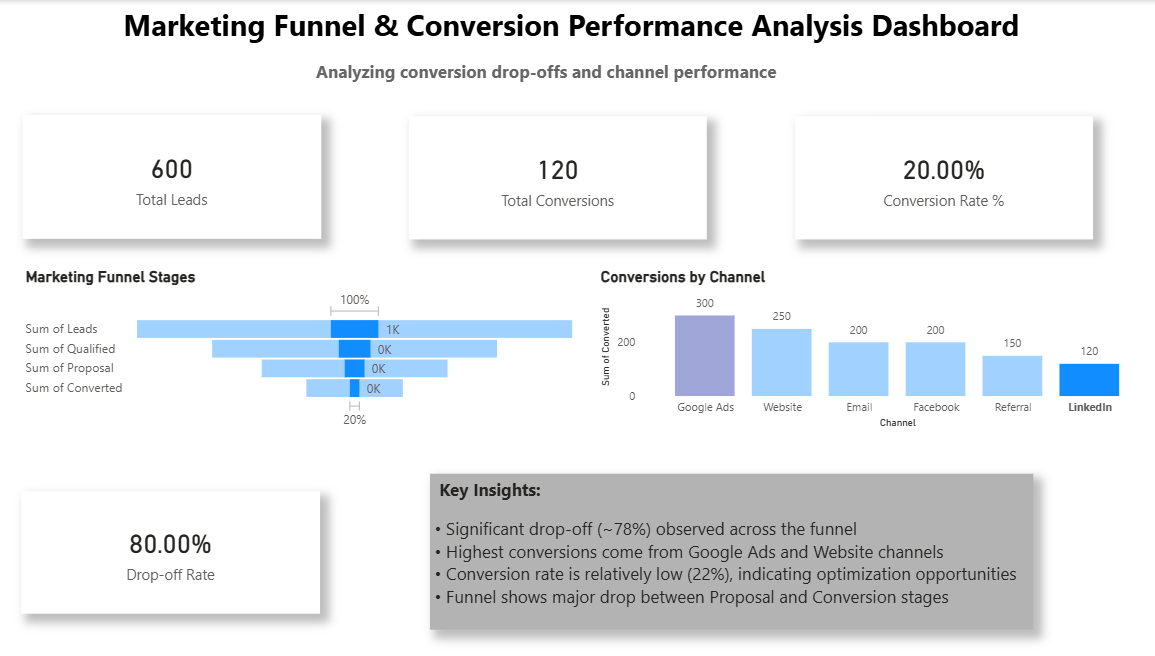

Layout of this report page (visuals, bound fields, positions):
{"tool":"powerbi","page":{"name":"Page 1","canvas":[1280,720],"ordinal":0},"visuals":[{"type":"card","fields":{"Values":["Sum(marketing_funnel_dataset.Leads)"]},"box":[34.3,127.6,328,135.8],"z":0},{"type":"card","fields":{"Values":["Sum(marketing_funnel_dataset.Converted)"]},"box":[459.5,127.6,327,135],"z":1000},{"type":"card","fields":{"Values":["marketing_funnel_dataset.Conversion Rate %"]},"box":[883.7,127.6,327,135],"z":2000},{"type":"textbox","box":[34.3,0,1181.5,60.4],"z":3000},{"type":"textbox","box":[20.6,60.4,1180.1,41.2],"z":4000},{"type":"funnel","title":"Marketing Funnel Stages","fields":{"Y":["Sum(marketing_funnel_dataset.Leads)","Sum(marketing_funnel_dataset.Qualified)","Sum(marketing_funnel_dataset.Proposal)","Sum(marketing_funnel_dataset.Converted)"]},"box":[34.3,293.7,615,181.1],"z":5000},{"type":"clusteredColumnChart","title":"Conversions by Channel","fields":{"Category":["marketing_funnel_dataset.Channel"],"Y":["Sum(marketing_funnel_dataset.Converted)"]},"box":[665.5,293.7,615,181.1],"z":6000},{"type":"card","fields":{"Values":["marketing_funnel_dataset.Drop-off Rate"]},"box":[34.3,539.3,328,134.5],"z":7000},{"type":"textbox","box":[483,520.1,662.8,171.5],"z":8000}]}

Visuals, with their boxes in screenshot pixels (x1, y1, x2, y2), scaled from the page's 1280x720 canvas onto the 1155x656 screenshot:
card - Sum(marketing_funnel_dataset.Leads): bbox=(31, 116, 327, 240)
card - Sum(marketing_funnel_dataset.Converted): bbox=(415, 116, 710, 239)
card - marketing_funnel_dataset.Conversion Rate %: bbox=(797, 116, 1092, 239)
textbox: bbox=(31, 0, 1097, 55)
textbox: bbox=(19, 55, 1083, 93)
"Marketing Funnel Stages" funnel: bbox=(31, 268, 586, 433)
"Conversions by Channel" clusteredColumnChart: bbox=(601, 268, 1154, 433)
card - marketing_funnel_dataset.Drop-off Rate: bbox=(31, 491, 327, 614)
textbox: bbox=(436, 474, 1034, 630)
